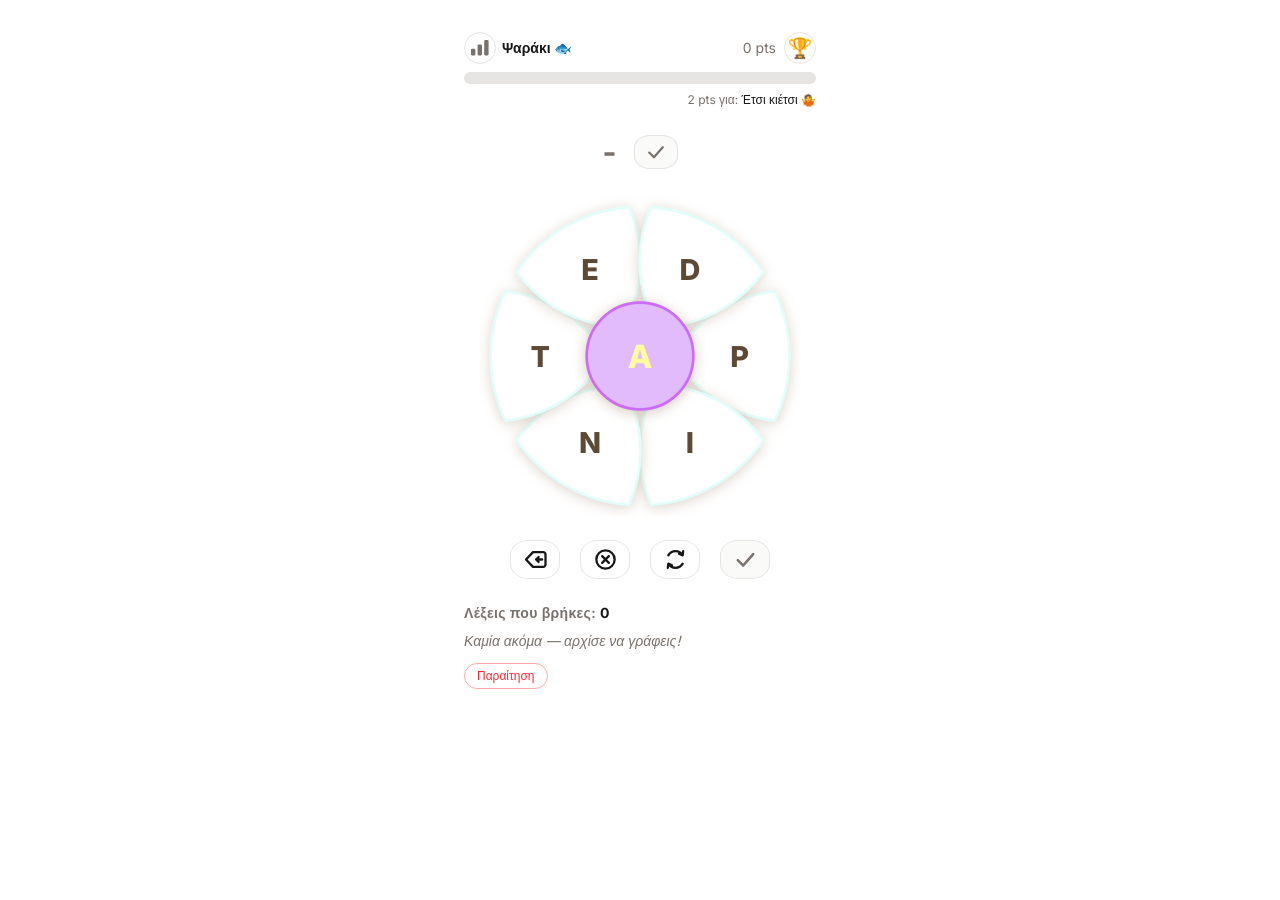
Test: Give-up flow › clicking give-up opens the confirmation modal
Step 1. Click the button with test id "btn-give-up" → (506, 676), box [464,663,548,689]
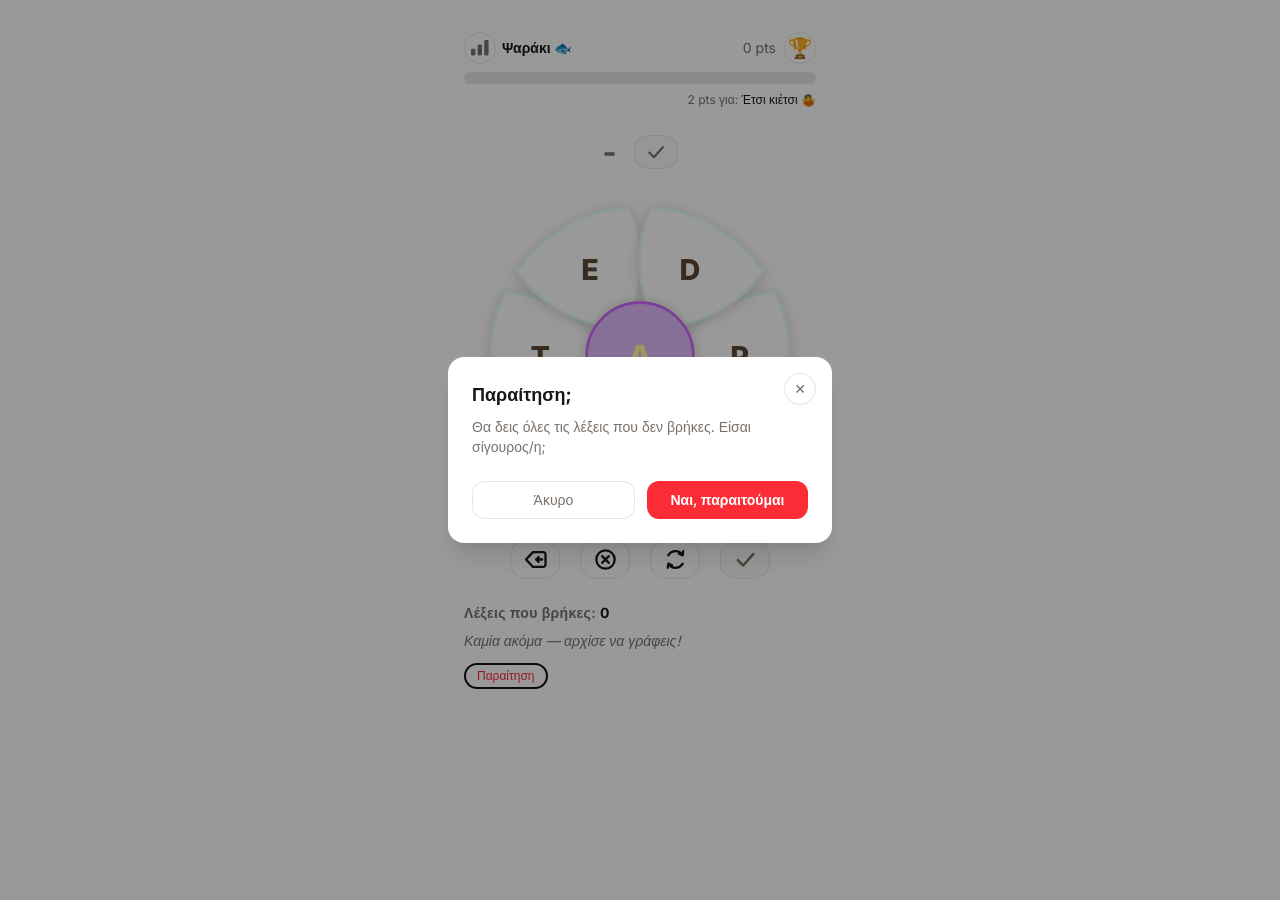
Expected: the button with test id "btn-give-up-confirm" is shown, [647,481,808,519]
Expected: the button with test id "btn-give-up-cancel" is shown, [472,481,635,519]
